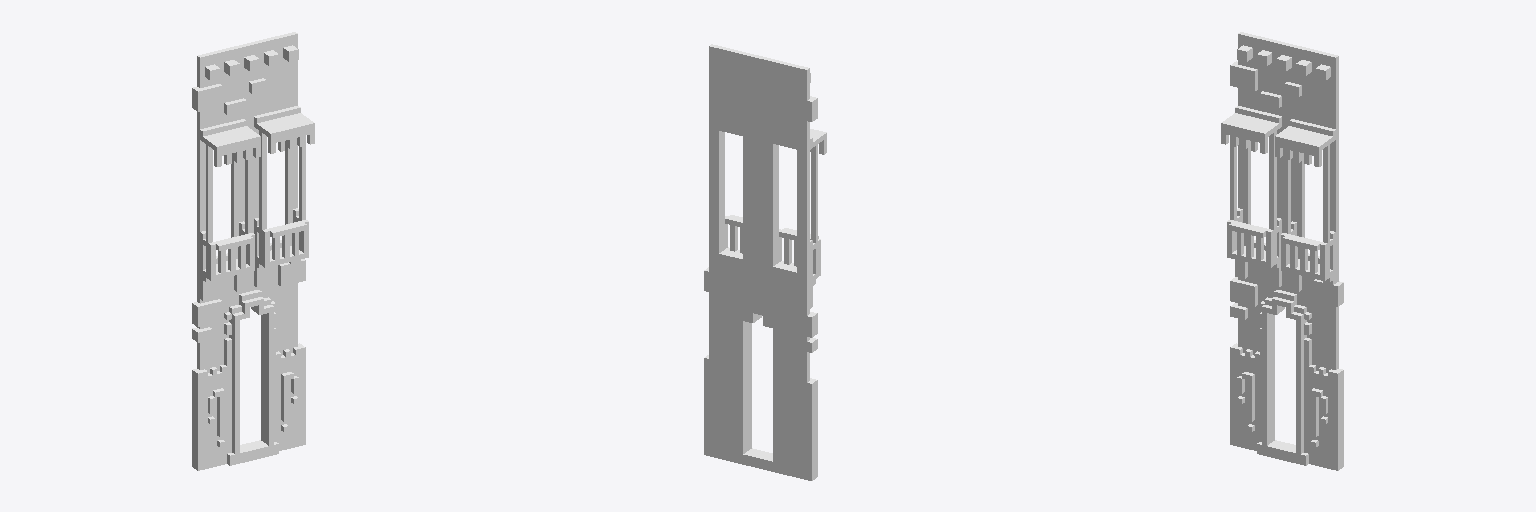
The model's file is TallBuilding01-0.obj.
The picture shows the model from 3 angles: view 1: azimuth 30°, elevation 25°; view 2: azimuth 150°, elevation 25°; view 3: azimuth 330°, elevation 25°; orthographic projection.
Parts seen in each view (by area): view 1: object 1; view 2: object 1; view 3: object 1.
Boxes of the visible parts, <box> form: object 1: <box>192,32,314,470</box>; object 1: <box>704,44,826,480</box>; object 1: <box>1221,32,1343,470</box>.
Bounding box in the file's own units: 2.2 × 8 × 0.7.